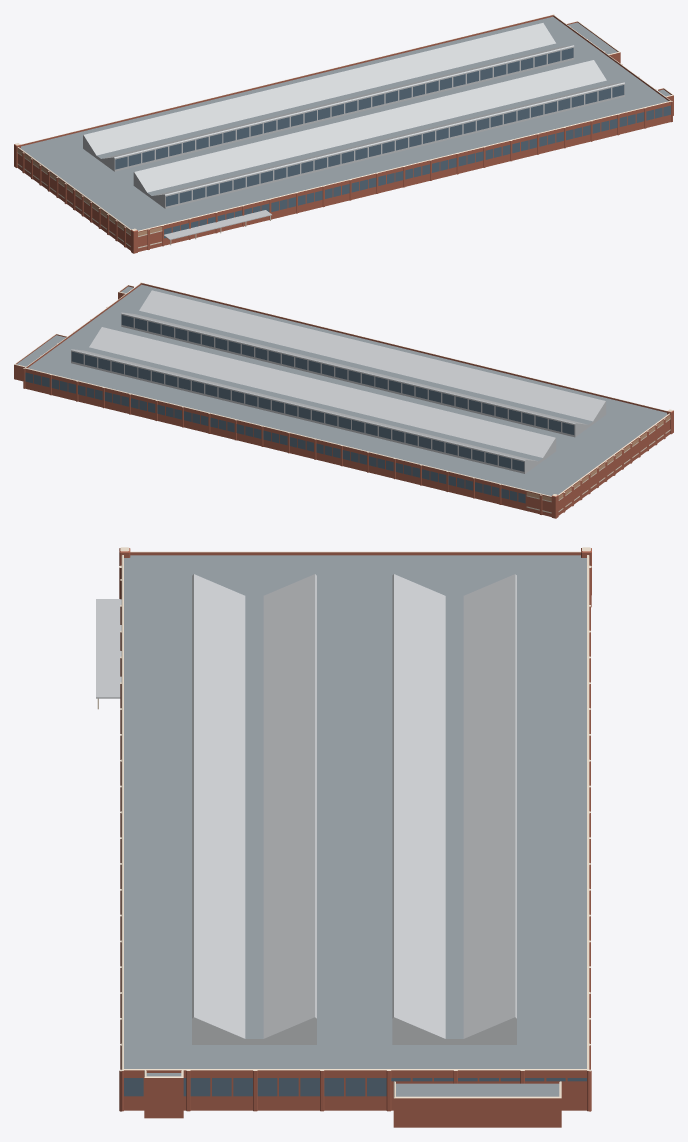
Rendered from clt-cne-ford-plant.glb.
3 renders of one model, top to bottom at view 1: azimuth 30°, elevation 25°; view 2: azimuth 150°, elevation 25°; view 3: azimuth 270°, elevation 25°, orthographic. The views are drawn at different scales.
Parts seen in each view (by area): view 1: Historic Ford Factory, Camp North End; view 2: Historic Ford Factory, Camp North End; view 3: Historic Ford Factory, Camp North End.
Boxes of the visible parts, bbox=[...] form: Historic Ford Factory, Camp North End: bbox=[14, 14, 673, 253]; Historic Ford Factory, Camp North End: bbox=[14, 282, 673, 518]; Historic Ford Factory, Camp North End: bbox=[96, 547, 591, 1127].
Size of the model in its own units: 252 by 14.4 by 98.6.
